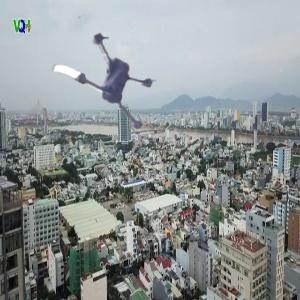drone: (40, 14, 168, 142)
